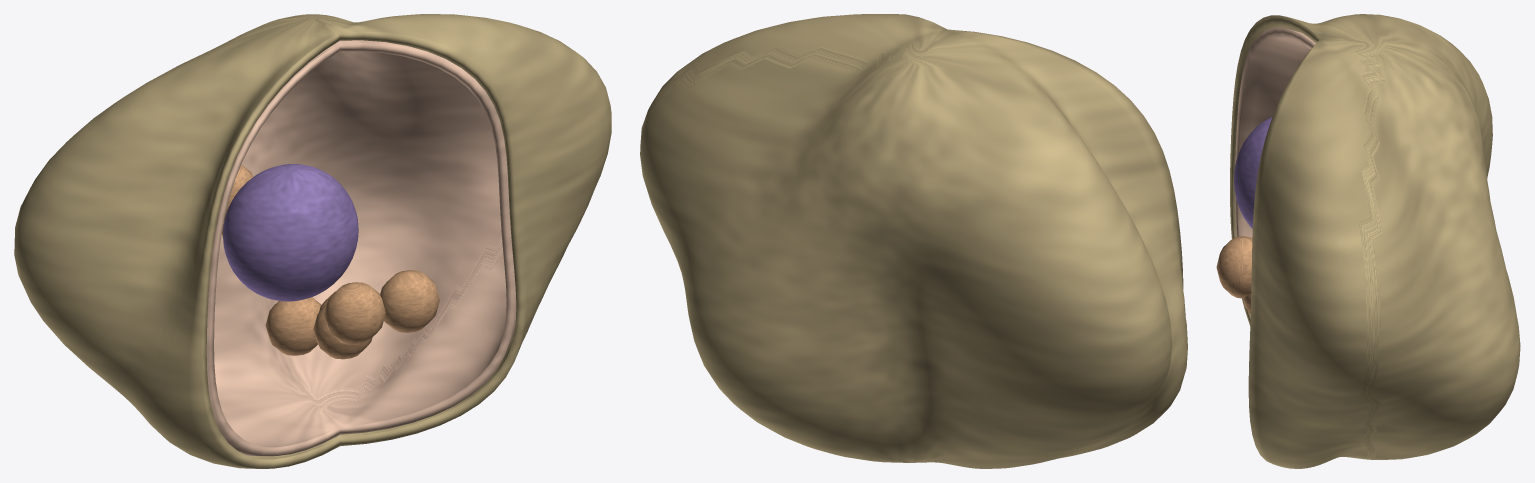
File: cutaway.glb
The picture shows the model from 3 angles, left to right: view 1: azimuth 30°, elevation 25°; view 2: azimuth 150°, elevation 25°; view 3: azimuth 270°, elevation 25°; orthographic projection. The views are drawn at different scales.
Visible parts, largest first — view 1: membrana_mesh, citoplasma_mesh, nucleo_mesh, vacdigestivo_mesh; view 2: membrana_mesh; view 3: membrana_mesh, citoplasma_mesh, nucleo_mesh, vacdigestivo_mesh.
Part boxes in pixels (left/top/right/bottom): membrana_mesh: left=14, top=14, right=611, bottom=468; citoplasma_mesh: left=206, top=40, right=516, bottom=456; nucleo_mesh: left=223, top=164, right=358, bottom=301; vacdigestivo_mesh: left=221, top=164, right=439, bottom=359; membrana_mesh: left=640, top=14, right=1187, bottom=468; membrana_mesh: left=1230, top=14, right=1520, bottom=468; citoplasma_mesh: left=1235, top=27, right=1315, bottom=237; nucleo_mesh: left=1234, top=116, right=1272, bottom=228; vacdigestivo_mesh: left=1216, top=236, right=1252, bottom=313.
Size of the model in its own units: 2.34 by 1.7 by 1.16.
4 materials, 4 textured.
